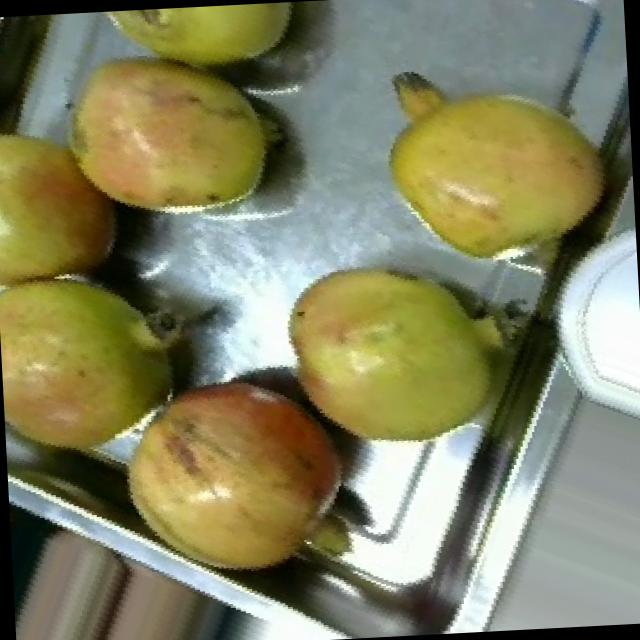fruit: (93, 338, 379, 614), (352, 28, 634, 292), (252, 223, 536, 481), (39, 15, 310, 252), (0, 231, 218, 482)
